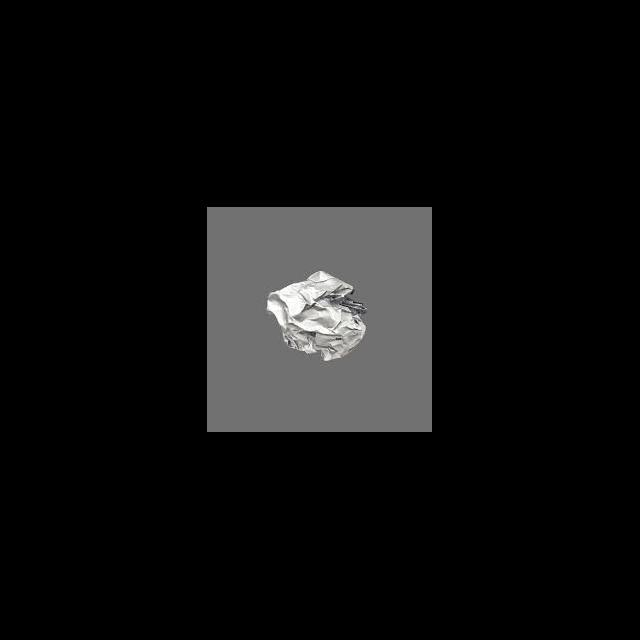paper: (266, 270, 368, 362)
